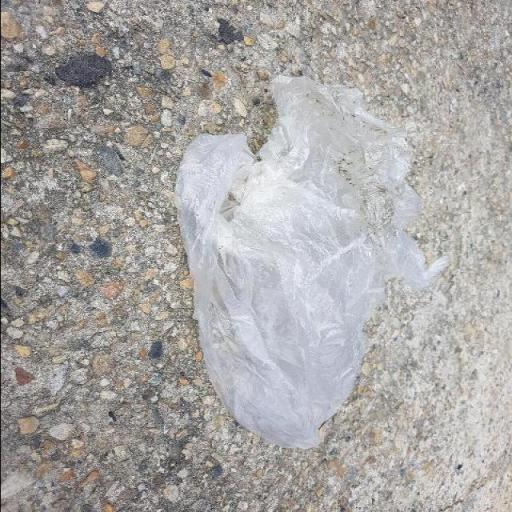plastic-bag: (173, 73, 450, 449)
